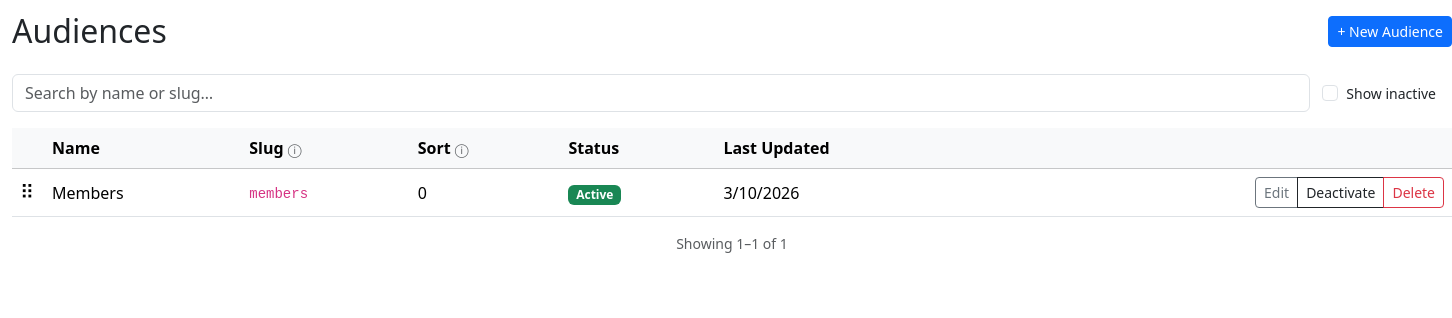
AudiencesListPage › Data loading › shows Inactive badge for inactive audiences
The width and height of the screenshot is (1452, 318).
Expected: the text "Members" is shown, left=44, top=169, right=241, bottom=217
What coordinates should you click on to do the following:
click the checkbox labelled "Show inactive"
I would click on:
 (1330, 93)
Its box is left=1322, top=85, right=1338, bottom=101.
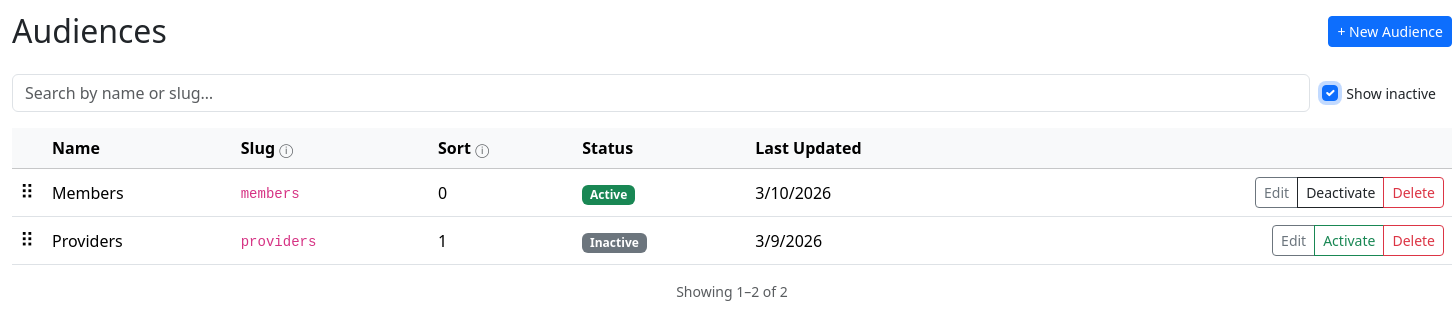
Now the text "Inactive" is shown, box left=582, top=233, right=647, bottom=253
